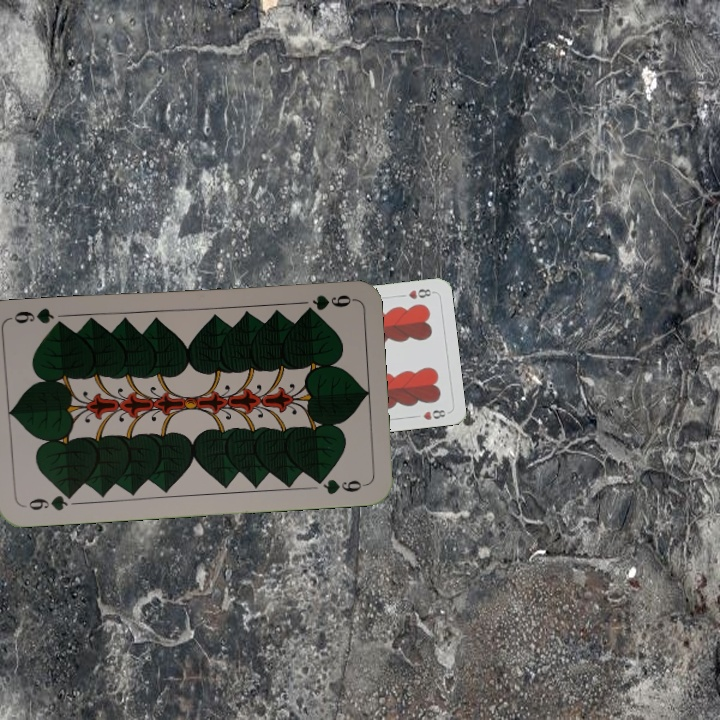G9: (300, 290, 356, 315), (24, 489, 77, 513)
H8: (404, 285, 436, 302)
